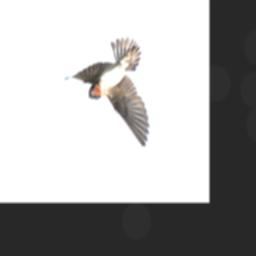Swallow: (64, 34, 151, 150)
